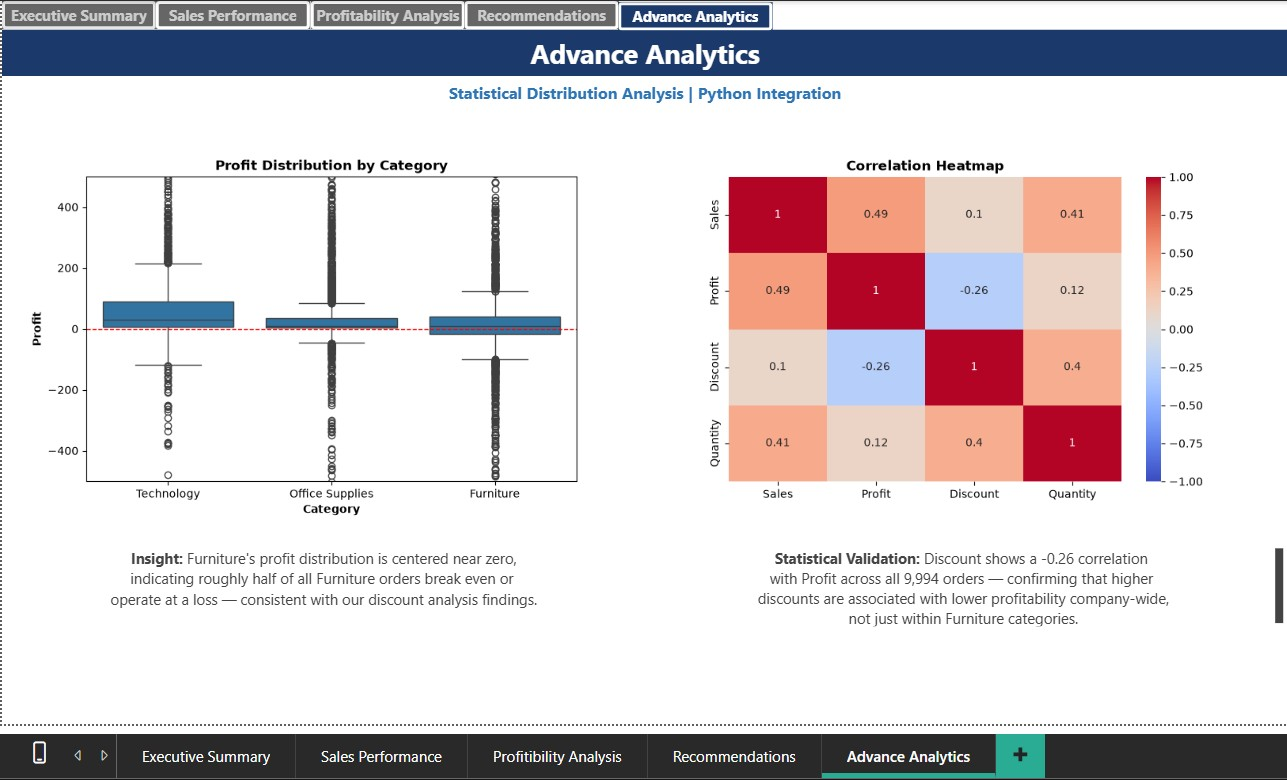

The page's visual inventory and layout, read from the dashboard file:
{"tool":"powerbi","page":{"name":"Advance Analytics","canvas":[1280,720],"ordinal":4},"visuals":[{"type":"textbox","box":[0,28.6,1280,46],"z":0},{"type":"actionButton","title":"Executive Summary","box":[0,0,153.4,28.2],"z":1000},{"type":"actionButton","title":"Executive Summary","box":[153.4,0,153.4,28.2],"z":2000},{"type":"actionButton","title":"Executive Summary","box":[306.8,0,153.4,28.2],"z":3000},{"type":"actionButton","title":"Executive Summary","box":[460.1,0,153.4,28.2],"z":4000},{"type":"actionButton","title":"Executive Summary","box":[613.5,1.2,153.4,28.2],"z":5000},{"type":"textbox","box":[0,74.6,1280,34.8],"z":6000},{"type":"pythonVisual","fields":{"Values":["Sample - Superstore.Total Profit","Sample - Superstore.Order ID","Sample - Superstore.Category"]},"box":[0,108.4,639.7,432.2],"z":7000},{"type":"textbox","box":[0,539.9,640.6,87.1],"z":7001},{"type":"pythonVisual","fields":{"Values":["Sample - Superstore.Order ID","Sum(Sample - Superstore.Profit)","Sum(Sample - Superstore.Sales)","Sum(Sample - Superstore.Discount)","Sum(Sample - Superstore.Quantity)"]},"box":[640,110,640,430],"z":7002},{"type":"textbox","box":[640.6,539.9,639.4,87.1],"z":7003}]}

Visuals, with their boxes on the page's 1280x720 design canvas (x1, y1, x2, y2). These are canvas units, not pixel positions in the 1287x780 screenshot, which may show the page scaled, cropped or inside an application window:
textbox: (0, 29, 1280, 75)
"Executive Summary" actionButton: (0, 0, 153, 28)
"Executive Summary" actionButton: (153, 0, 307, 28)
"Executive Summary" actionButton: (307, 0, 460, 28)
"Executive Summary" actionButton: (460, 0, 614, 28)
"Executive Summary" actionButton: (614, 1, 767, 29)
textbox: (0, 75, 1280, 109)
pythonVisual - Sample - Superstore.Total Profit x Sample - Superstore.Order ID: (0, 108, 640, 541)
textbox: (0, 540, 641, 627)
pythonVisual - Sample - Superstore.Order ID x Sum(Sample - Superstore.Profit): (640, 110, 1280, 540)
textbox: (641, 540, 1280, 627)
